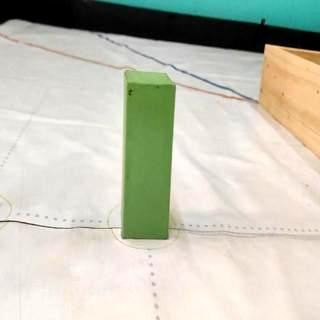greenbox: (119, 66, 179, 242)
